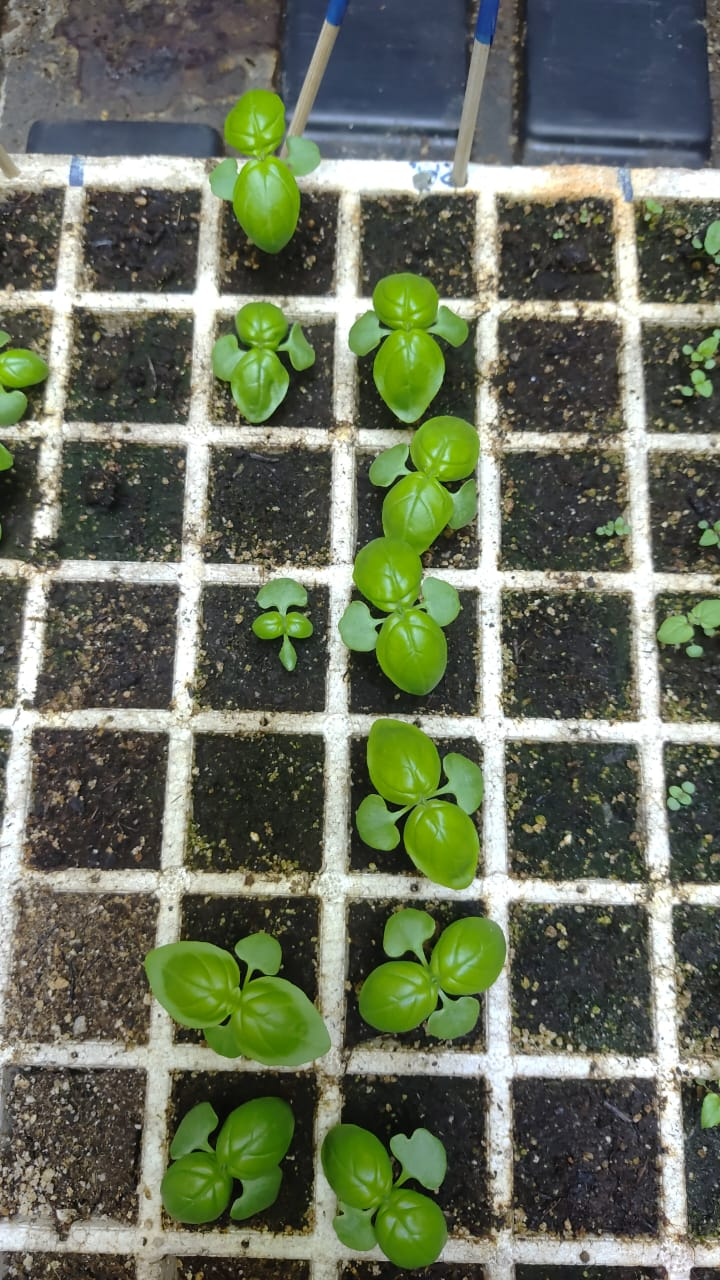Folha: (139, 927, 331, 1067), (350, 721, 488, 891), (354, 902, 508, 1041), (205, 84, 326, 256), (316, 1121, 452, 1273), (158, 1095, 296, 1227), (346, 265, 416, 410), (249, 576, 315, 672), (234, 300, 314, 372), (0, 325, 51, 429), (655, 596, 720, 659), (378, 272, 437, 336), (292, 979, 332, 1068), (352, 795, 400, 849), (208, 334, 243, 394), (433, 294, 472, 346), (338, 598, 375, 652), (421, 577, 461, 626), (656, 605, 702, 646), (287, 320, 317, 376), (368, 445, 408, 486), (0, 374, 32, 425), (690, 597, 720, 636), (681, 336, 719, 363), (698, 1089, 720, 1130), (690, 368, 714, 403), (251, 613, 283, 639), (666, 783, 693, 810), (703, 216, 720, 258), (698, 519, 718, 546), (604, 516, 630, 536), (292, 616, 314, 638), (280, 644, 297, 671), (692, 377, 714, 397), (613, 515, 631, 534), (304, 584, 309, 642), (645, 198, 663, 214), (0, 447, 13, 469), (680, 380, 696, 397), (668, 784, 683, 801), (681, 343, 695, 360), (708, 517, 720, 534), (681, 780, 696, 793), (666, 797, 681, 810), (0, 332, 11, 347), (691, 238, 703, 248), (697, 519, 708, 529), (605, 519, 614, 529), (595, 525, 604, 535), (715, 254, 720, 264), (552, 233, 558, 239)
Germinacao: (339, 272, 487, 717), (138, 881, 343, 1071), (156, 1060, 328, 1248), (325, 1054, 472, 1265), (338, 883, 501, 1063), (342, 710, 501, 891), (201, 78, 330, 262), (210, 300, 324, 435), (652, 520, 720, 661), (249, 576, 316, 673), (0, 344, 52, 448), (680, 326, 720, 398), (595, 515, 632, 567), (690, 216, 720, 265), (666, 780, 695, 809), (644, 198, 664, 214), (552, 230, 564, 239)
